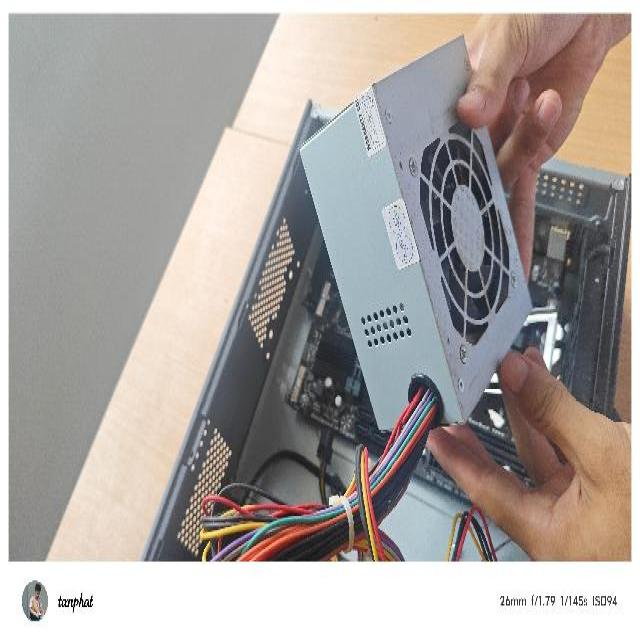PSU: (300, 32, 535, 434)
